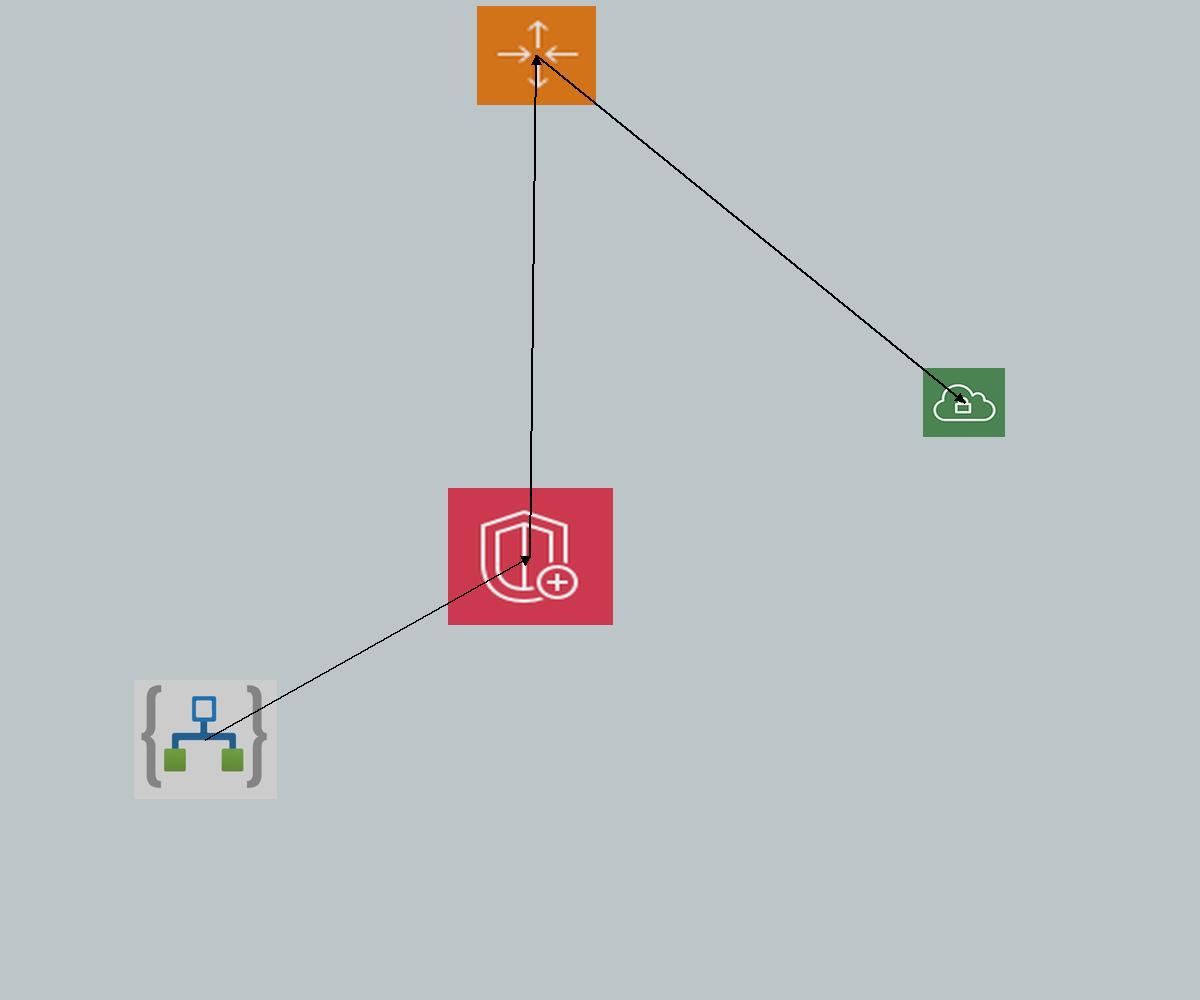AWS-Private_vpc: (923, 368, 1005, 437)
AWS-Scaling-group: (477, 6, 596, 105)
AWS-Shield: (448, 488, 613, 625)
Azure_integration-204-Logic-Apps: (134, 680, 277, 799)
